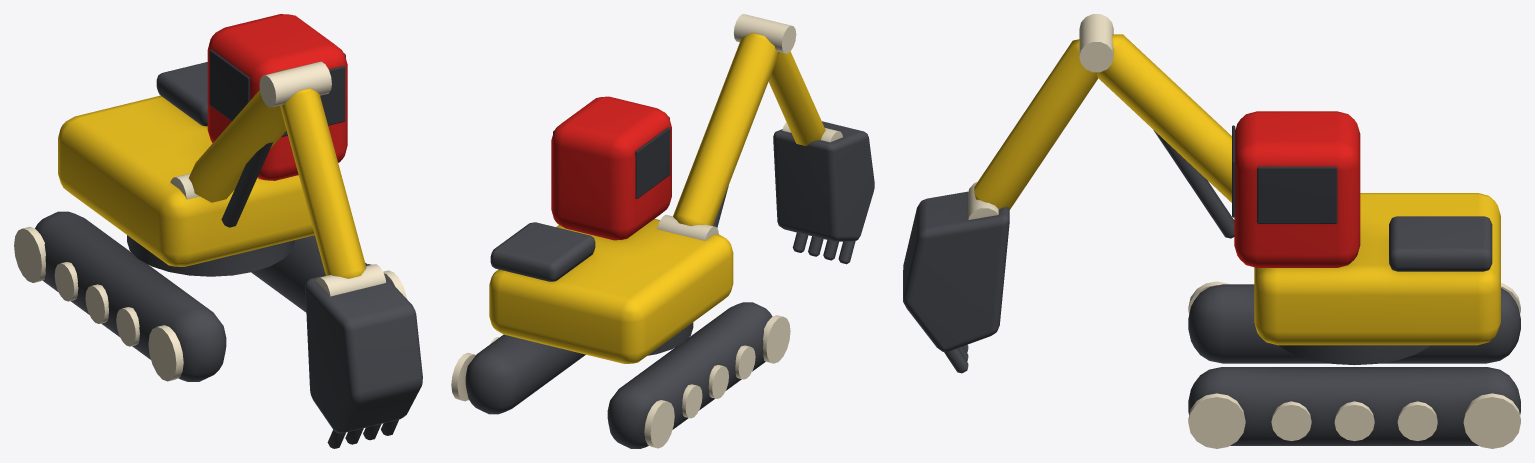
File: digger.fbx
3 renders of one model, left to right at view 1: azimuth 30°, elevation 25°; view 2: azimuth 150°, elevation 25°; view 3: azimuth 270°, elevation 25°, orthographic. The views are drawn at different scales.
Visible parts, largest first — view 1: digger; view 2: digger; view 3: digger.
Boxes of the visible parts, box(x1,y1,x2,y2) form: digger: box(14, 14, 422, 448); digger: box(451, 14, 874, 448); digger: box(903, 14, 1520, 448).
Size of the model in its own units: 974 by 1387 by 2200.
1 material, 1 textured.
